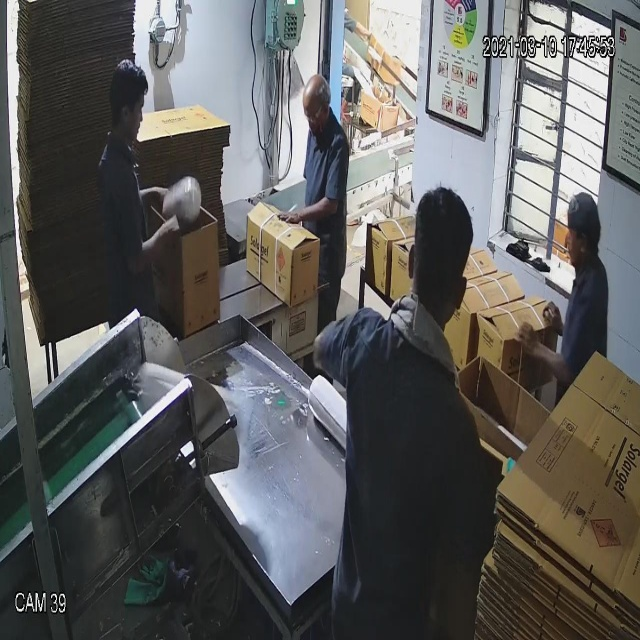Sin_guantes: (512, 309, 576, 390), (280, 183, 349, 240), (126, 215, 191, 270)
